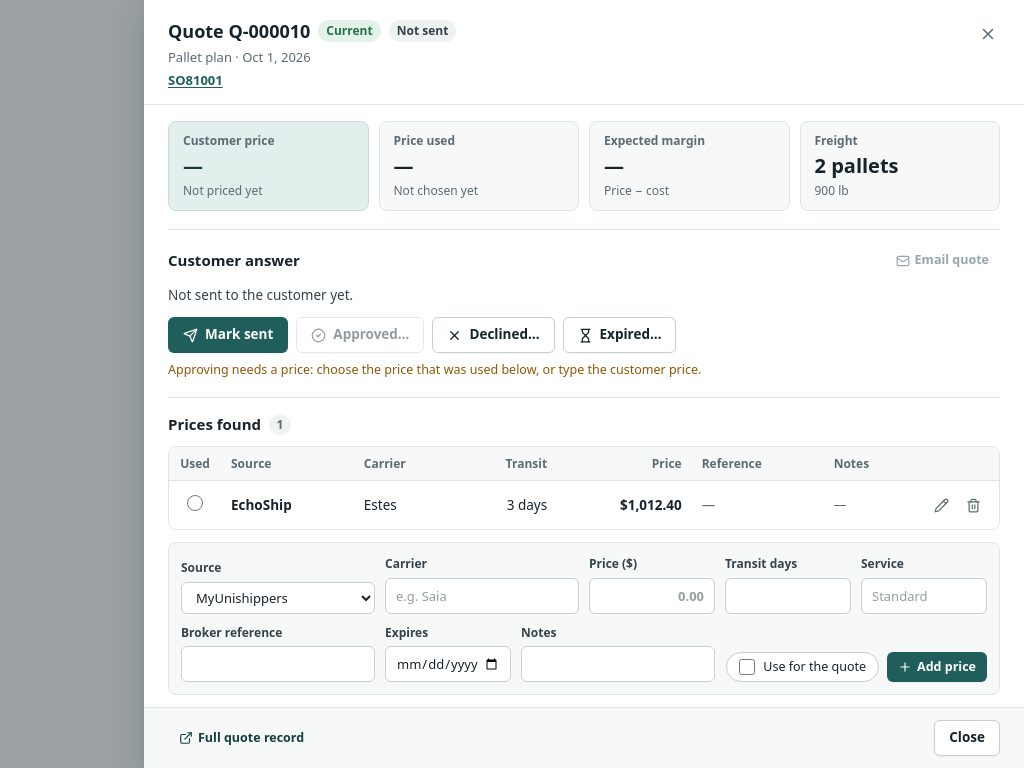
it: QuoteDetail › adds a broker price from the keyboard and suggests the next broker
The image size is (1024, 768).
Expected: the dropdown labelled "Source" shows "MyUnishippers", 181,582 -> 375,614
Type "XPO" into the field labelled "Carrier" at coordinates (482, 596), box 385,578 -> 579,614
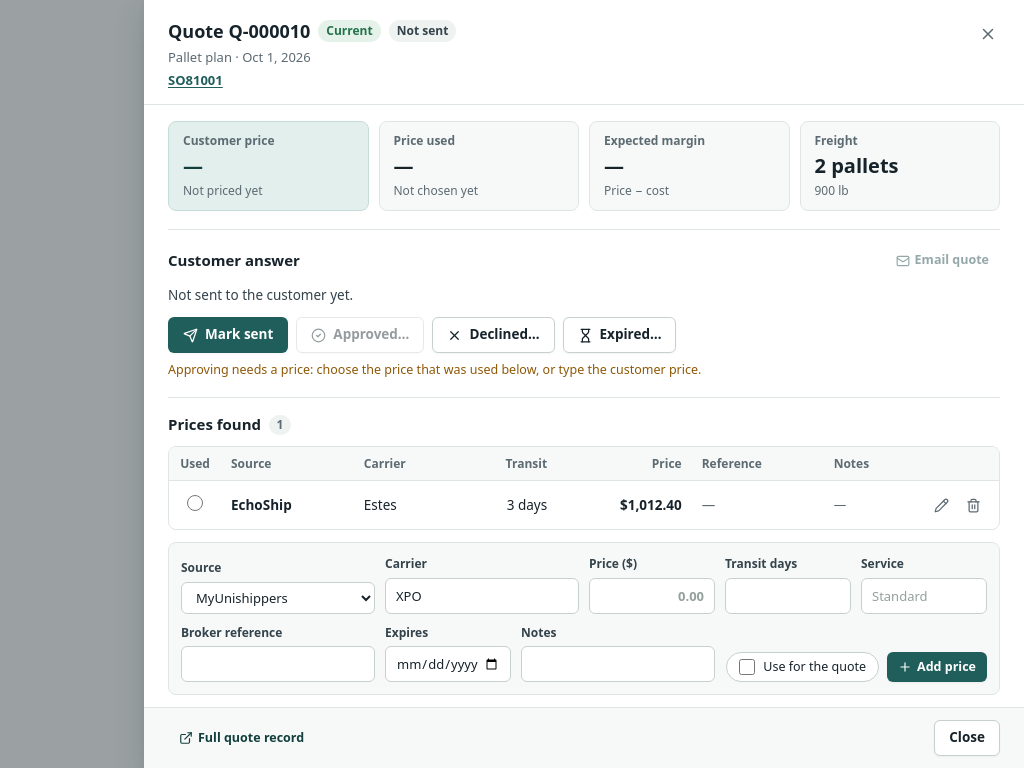
Type "abc" into the field labelled "Price ($)" at coordinates (652, 596), box 589,578 -> 715,614
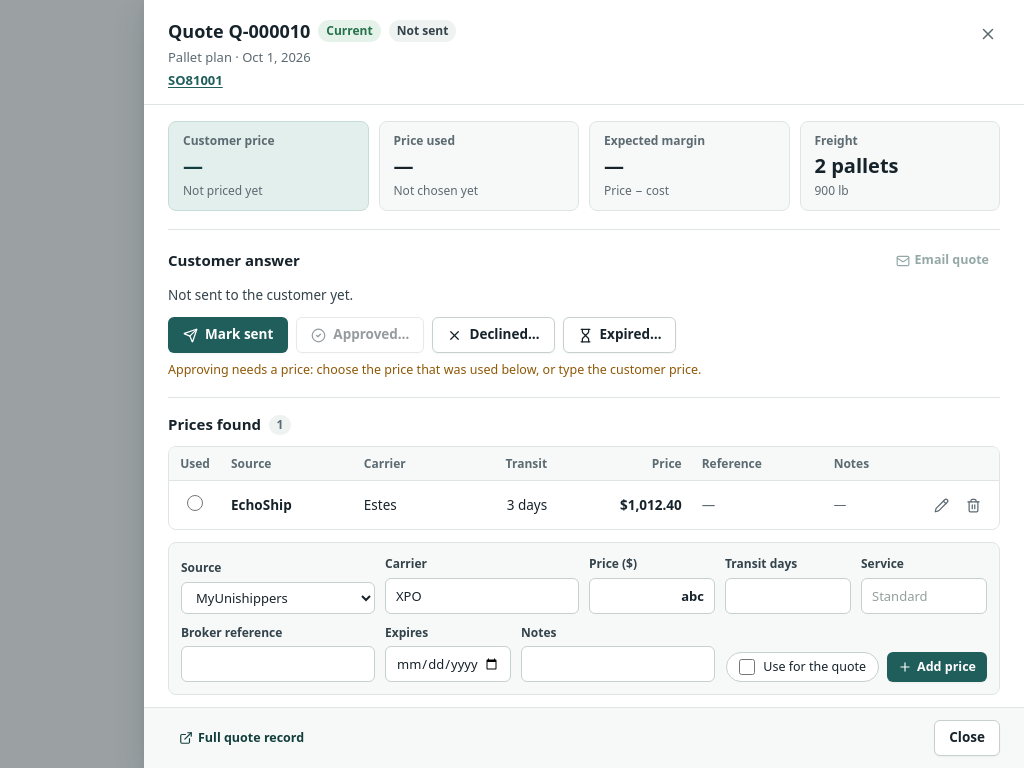
Press Enter in the field labelled "Price ($)", box 589,578 -> 715,614
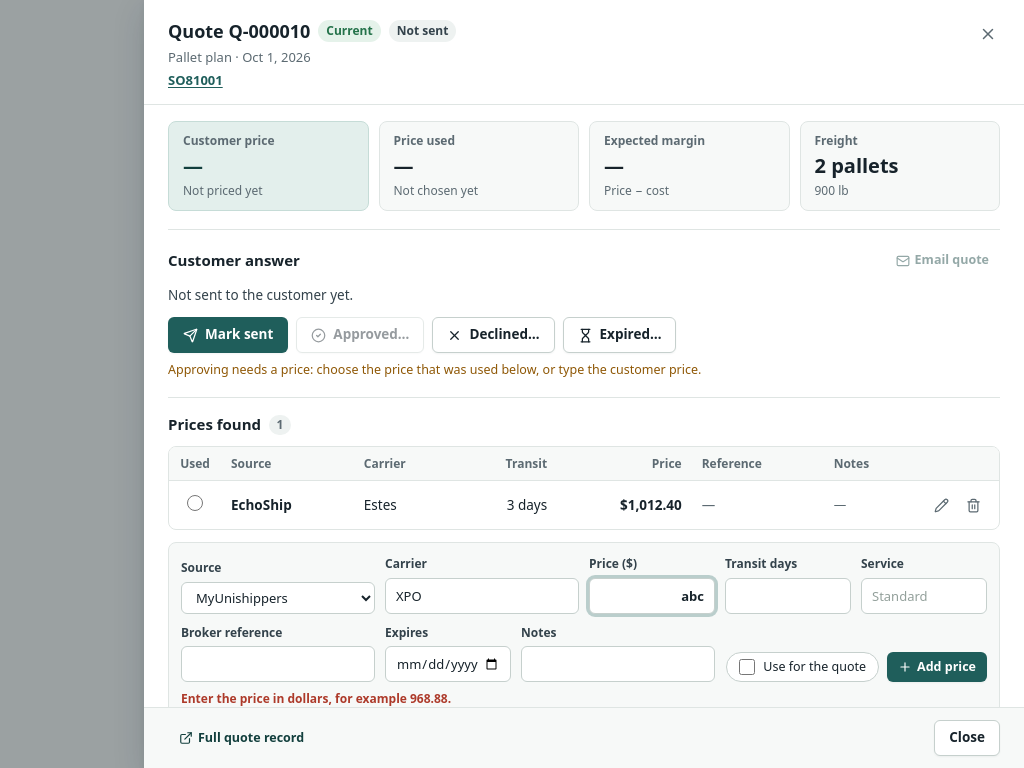
Expected: the text "Enter the price in dollars, for example 968.88." is shown, 181,690 -> 451,707
Replace the text in the field labelled "Price ($)" with "$1,012.40" at coordinates (652, 596), box 589,578 -> 715,614
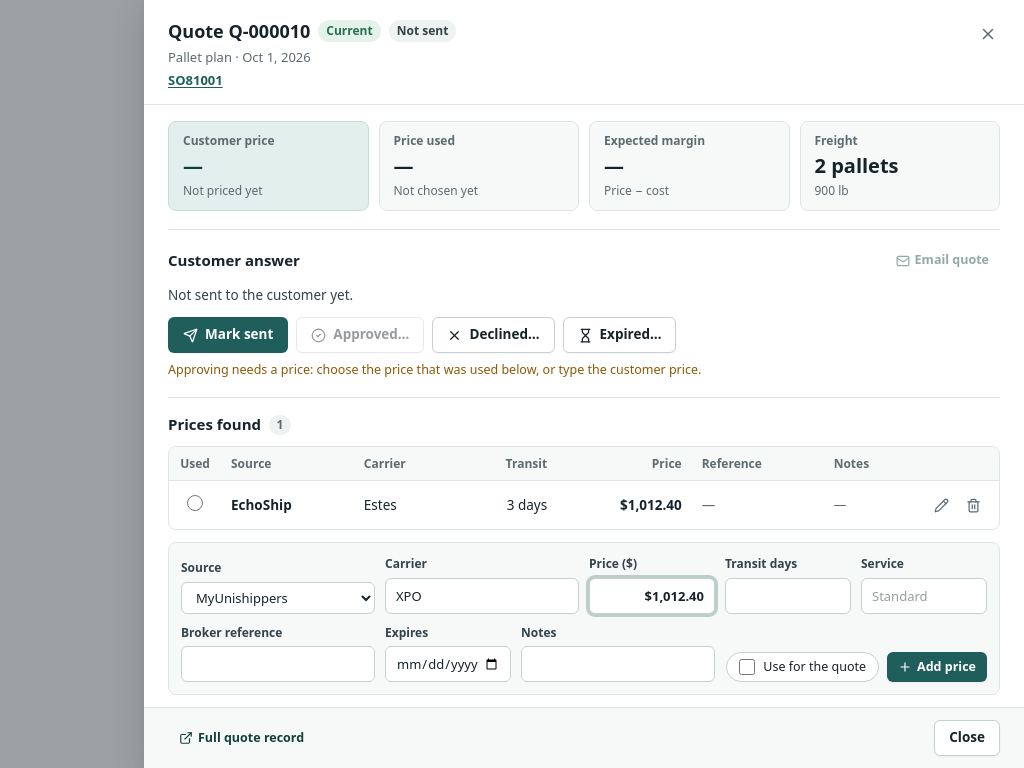
Press Enter in the field labelled "Price ($)", box 589,578 -> 715,614
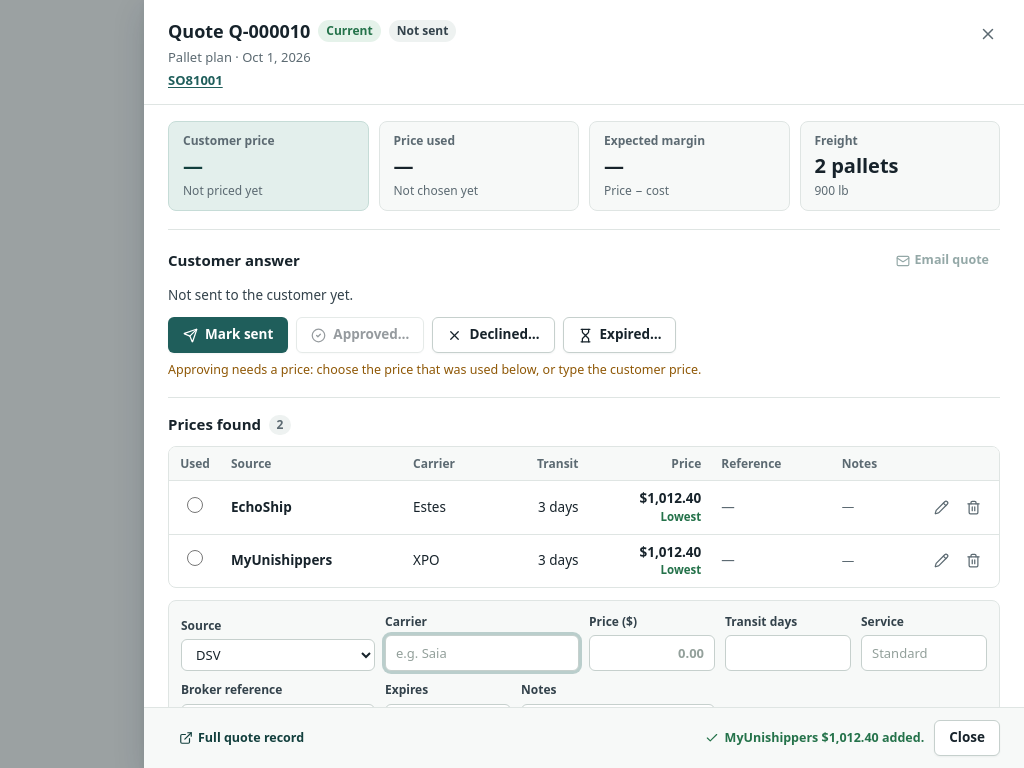
Expected: the dropdown labelled "Source" shows "DSV", 181,639 -> 375,671
Expected: the field labelled "Carrier" is empty, 385,635 -> 579,671
Expected: the number of radio buttons named "for the quote" is 2, 187,497 -> 203,513; 187,550 -> 203,566
